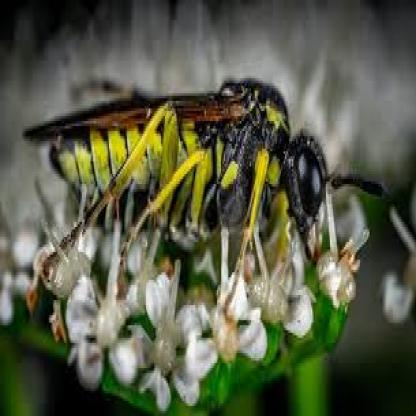sawfly: (23, 63, 384, 261)
